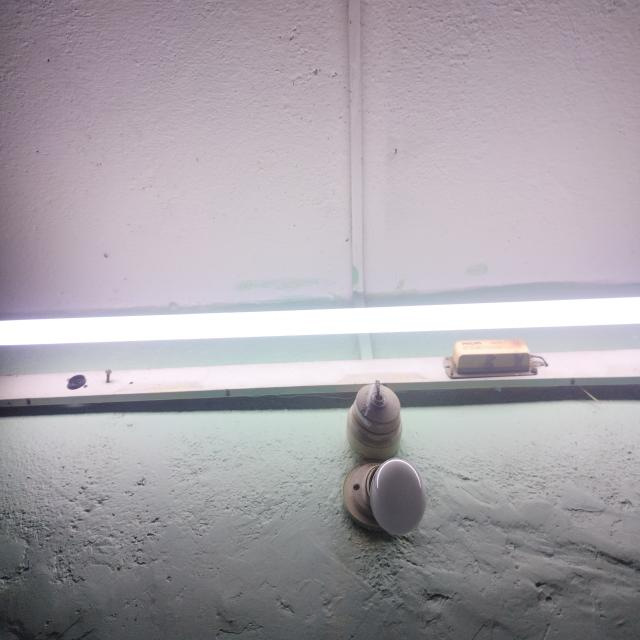tubelight_on: (0, 290, 640, 414)
